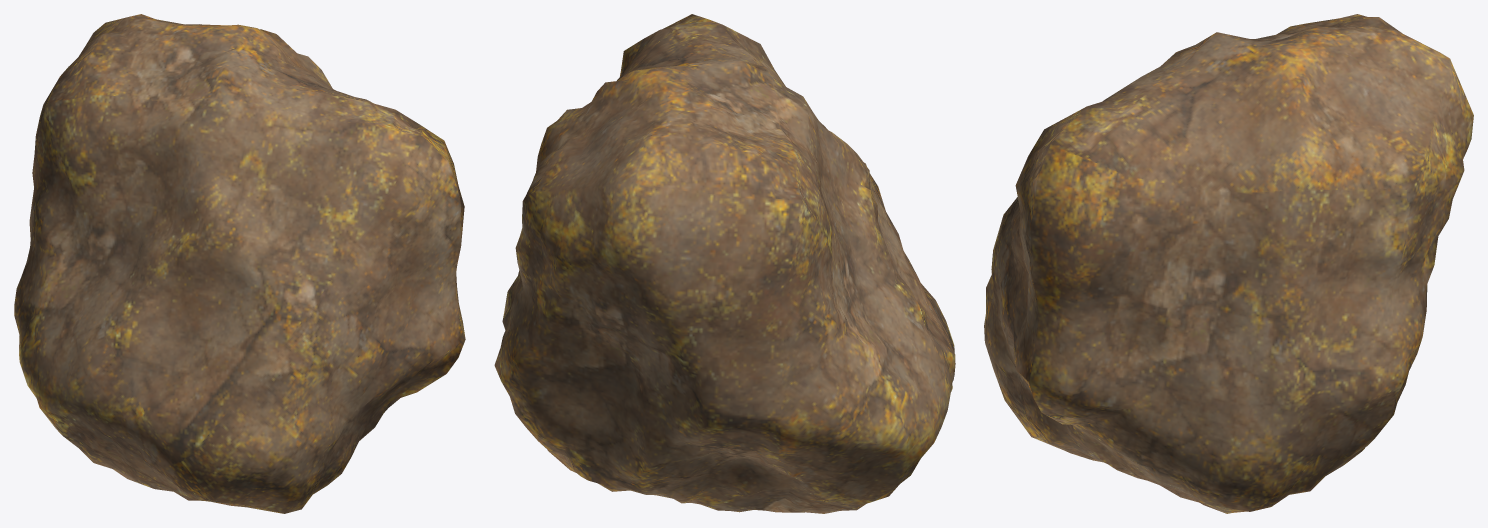
Rendered from rockgold.glb.
3 views of the same model, side by side, from view 1: azimuth 30°, elevation 25°; view 2: azimuth 150°, elevation 25°; view 3: azimuth 270°, elevation 25° (orthographic). The views are drawn at different scales.
Visible parts, largest first — view 1: rock; view 2: rock; view 3: rock.
Boxes of the visible parts, <box> form: rock: <box>14,14,465,513</box>; rock: <box>494,14,955,513</box>; rock: <box>984,14,1473,513</box>.
Bounding box in the file's own units: 1.25 × 1.38 × 1.36.
1 material, 1 textured.
